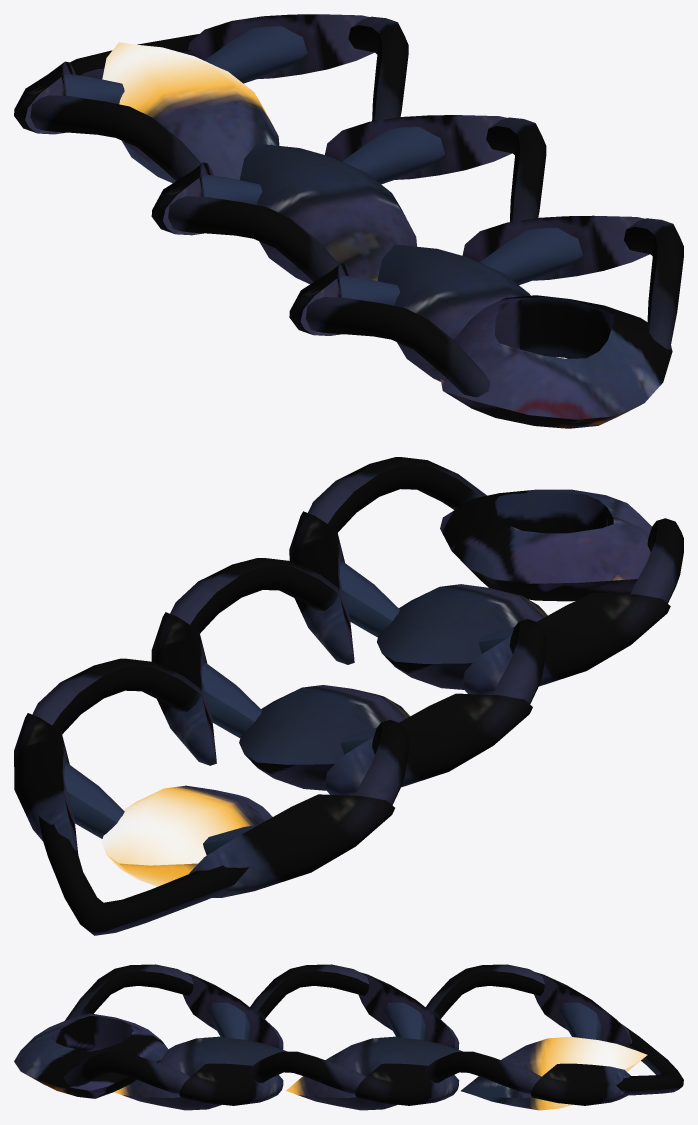
File: ship18g.fbx
3 renders of one model, top to bottom at view 1: azimuth 30°, elevation 25°; view 2: azimuth 150°, elevation 25°; view 3: azimuth 270°, elevation 25°, orthographic. The views are drawn at different scales.
Visible parts, largest first — view 1: PipelineFBX; view 2: PipelineFBX; view 3: PipelineFBX.
Part boxes in pixels (left/top/right/bottom): PipelineFBX: left=14, top=14, right=683, bottom=428; PipelineFBX: left=14, top=457, right=683, bottom=935; PipelineFBX: left=14, top=964, right=683, bottom=1110.
Bounding box in the file's own units: 53.96 × 20.48 × 133.
Materials: 1 (1 with a texture image).
